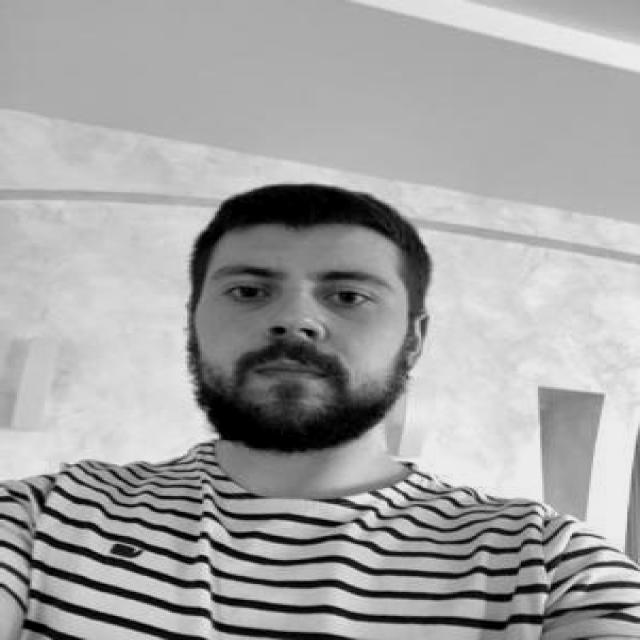face_nomask: (189, 253, 400, 456)
head_nohelmet: (185, 178, 444, 252)
person: (34, 169, 640, 640)
